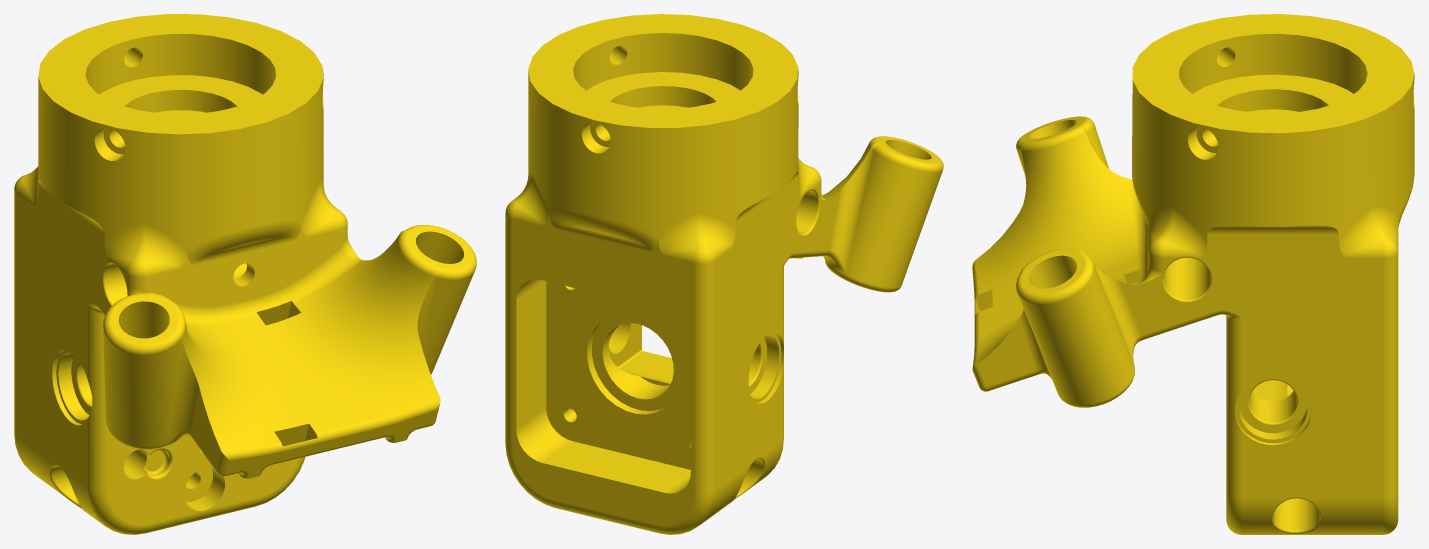
Rendered from A_H_1_Body.gltf.
3 views of the same model, side by side, from view 1: azimuth 30°, elevation 25°; view 2: azimuth 150°, elevation 25°; view 3: azimuth 270°, elevation 25° (orthographic). The views are drawn at different scales.
Visible parts, largest first — view 1: mesh32810, mesh32981, mesh32952, mesh32800, mesh32942, mesh32799, mesh32863, mesh33036, mesh32939, mesh32874, mesh32959, mesh32798 (+32 smaller); view 2: mesh32810, mesh33059, mesh32952, mesh33060, mesh32800, mesh32939, mesh32799, mesh32834, mesh33061, mesh33062, mesh33018, mesh32798 (+20 smaller); view 3: mesh32974, mesh32810, mesh32800, mesh32942, mesh32986, mesh32799, mesh32832, mesh33069, mesh32964, mesh32798, mesh32885, mesh32797 (+21 smaller).
Part boxes in pixels (x1,y1,x2,y2): mesh32810: (38,67,323,250); mesh32981: (265,234,440,418); mesh32952: (16,186,129,487); mesh32800: (38,14,323,134); mesh32942: (182,321,289,452); mesh32799: (85,34,275,94); mesh32863: (148,225,339,306); mesh33036: (109,431,297,524); mesh32939: (103,329,179,447); mesh32874: (236,315,373,432); mesh32959: (87,304,108,491); mesh32798: (100,75,262,106); mesh32810: (528,68,798,238); mesh33059: (513,214,694,525); mesh32952: (714,177,840,490); mesh33060: (546,281,690,469); mesh32800: (528,14,798,127); mesh32939: (846,151,942,287); mesh32799: (573,33,753,90); mesh32834: (694,261,714,493); mesh33061: (516,280,546,428); mesh33062: (542,441,690,492); mesh33018: (592,314,679,410); mesh32798: (586,72,740,101); mesh32974: (1120,234,1382,498); mesh32810: (1132,74,1414,241); mesh32800: (1132,14,1414,133); mesh32942: (975,132,1137,296); mesh32986: (1018,265,1134,404); mesh32799: (1179,33,1367,93); mesh32832: (1382,252,1398,498); mesh33069: (1242,499,1382,534); mesh32964: (1226,316,1241,498); mesh32798: (1192,74,1353,105); mesh32885: (977,318,1035,386); mesh32797: (1218,89,1328,111).
Bounding box in the file's own units: 0.0844 × 0.0961 × 0.0898.
